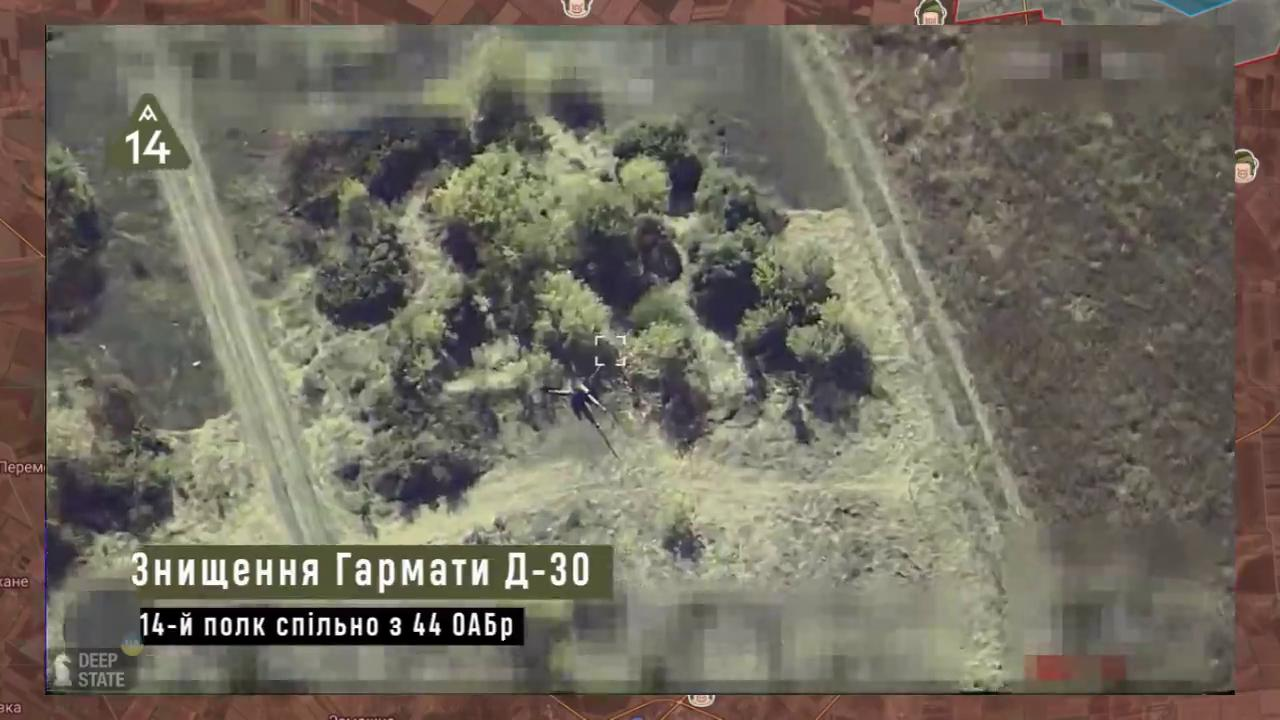tank: (542, 349, 619, 425)
